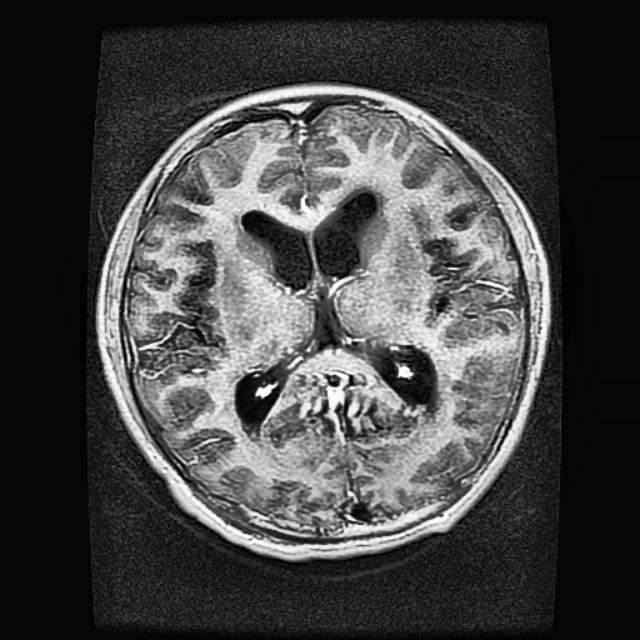Glioma: (289, 369, 383, 438)
